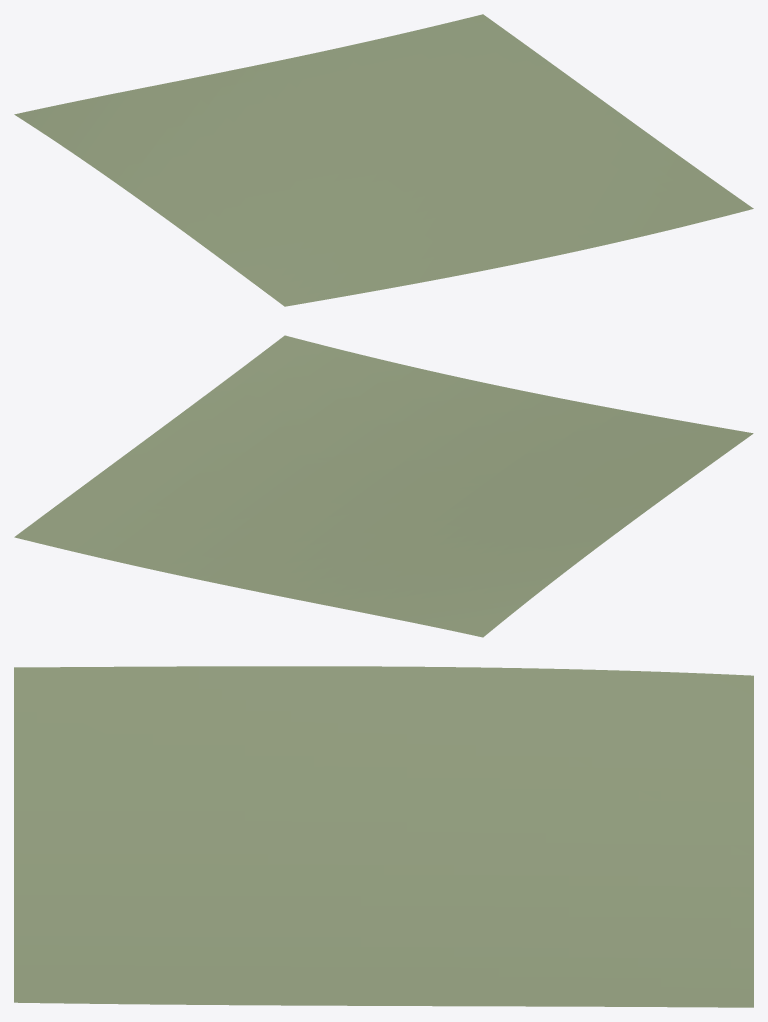
Rendered from expanse-8-26.glb.
3 views of the same model, one above another, from view 1: azimuth 30°, elevation 25°; view 2: azimuth 150°, elevation 25°; view 3: azimuth 270°, elevation 25° (orthographic). The views are drawn at different scales.
Parts seen in each view (by area): view 1: expanse-8-26; view 2: expanse-8-26; view 3: expanse-8-26.
Boxes of the visible parts, x1,y1,x2,y2 form: expanse-8-26: (14, 14, 753, 306); expanse-8-26: (14, 335, 753, 637); expanse-8-26: (14, 666, 753, 1007).
Size of the model in its own units: 256 by 11.02 by 256.
